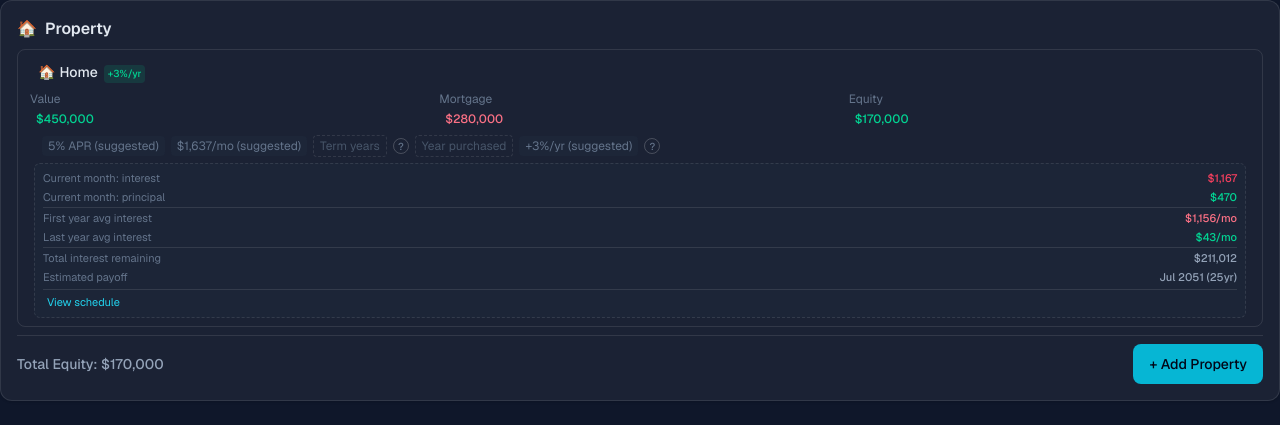
PropertyEntry component › shows click-to-edit input when name is clicked
What coordinates should you click on to do the following:
click the button with aria-label "Edit name for Home"
I would click on:
 (92, 73)
Its box is x1=30 y1=58 x2=154 y2=87.
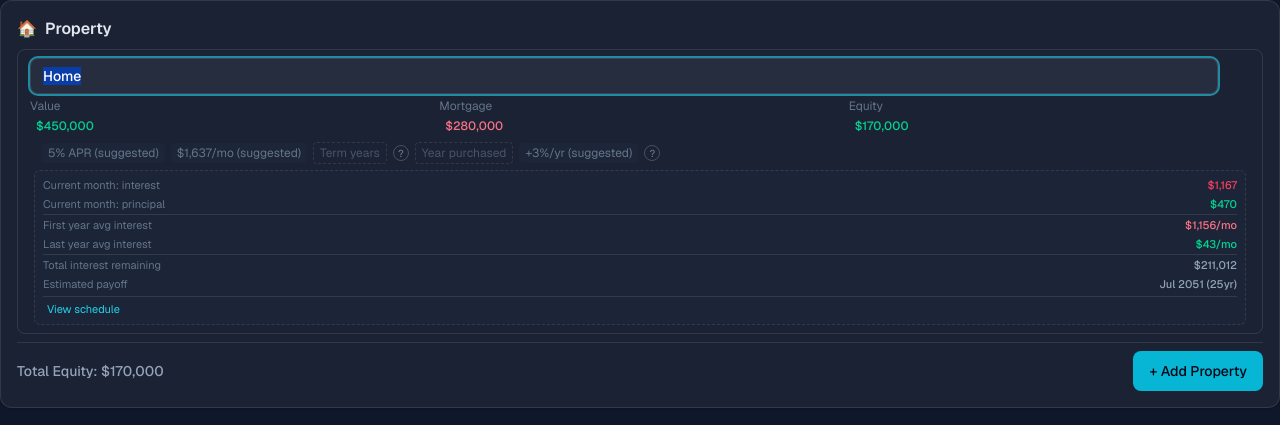
Now the field named "Edit property name" is shown, box x1=30 y1=58 x2=1218 y2=94
